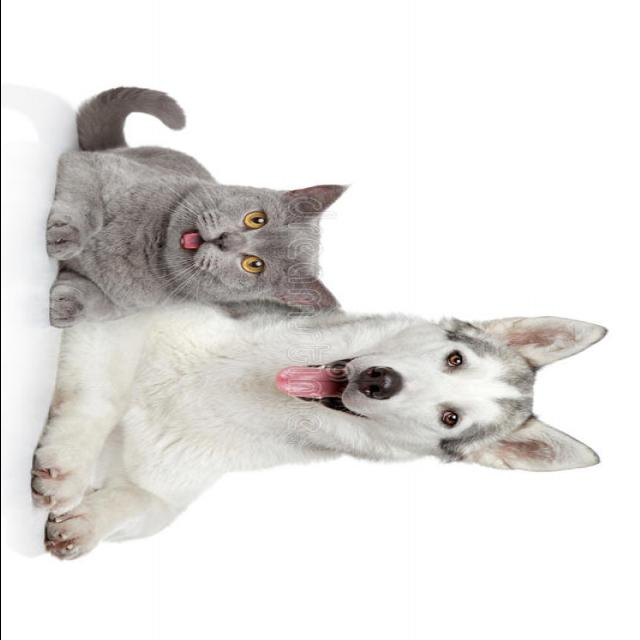cat: (46, 72, 362, 330)
dog: (33, 312, 613, 562)
